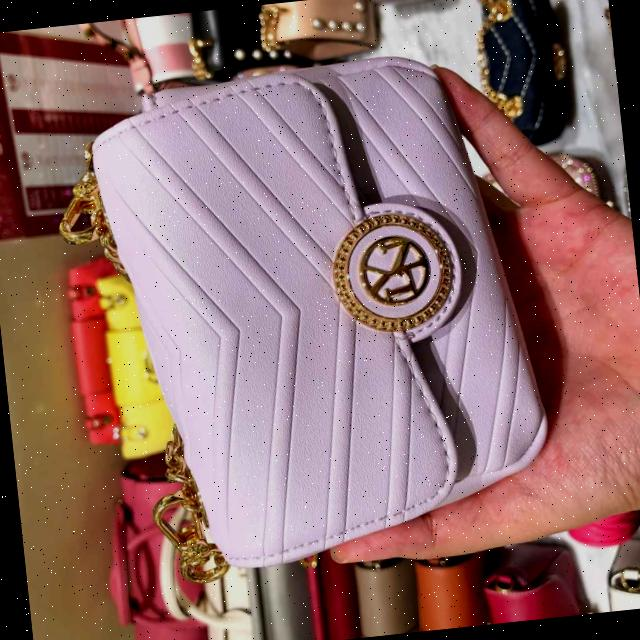Handbag: (68, 38, 566, 572)
